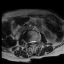CCS_normal: (32, 39, 33, 46)
LFS_normal: (35, 38, 37, 44)
LLS_normal: (33, 38, 35, 45)
RFS_stenosis: (28, 39, 30, 45)
RLS_stenosis: (30, 39, 32, 45)
